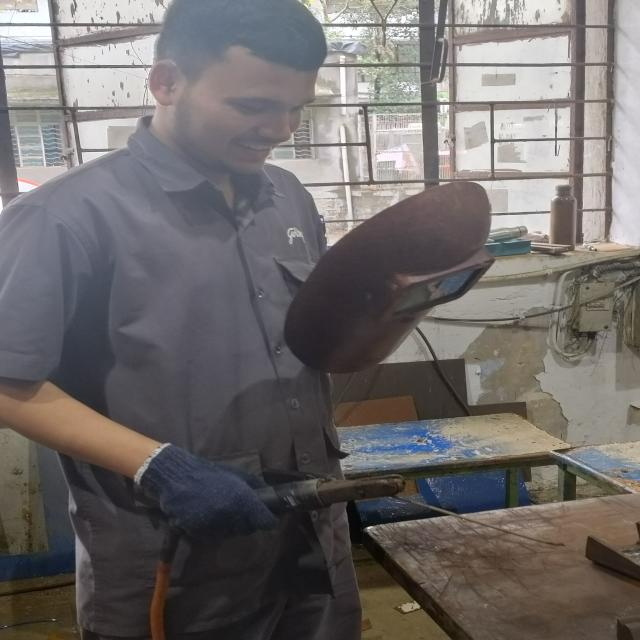Gloves-Detection: (153, 436, 272, 543)
